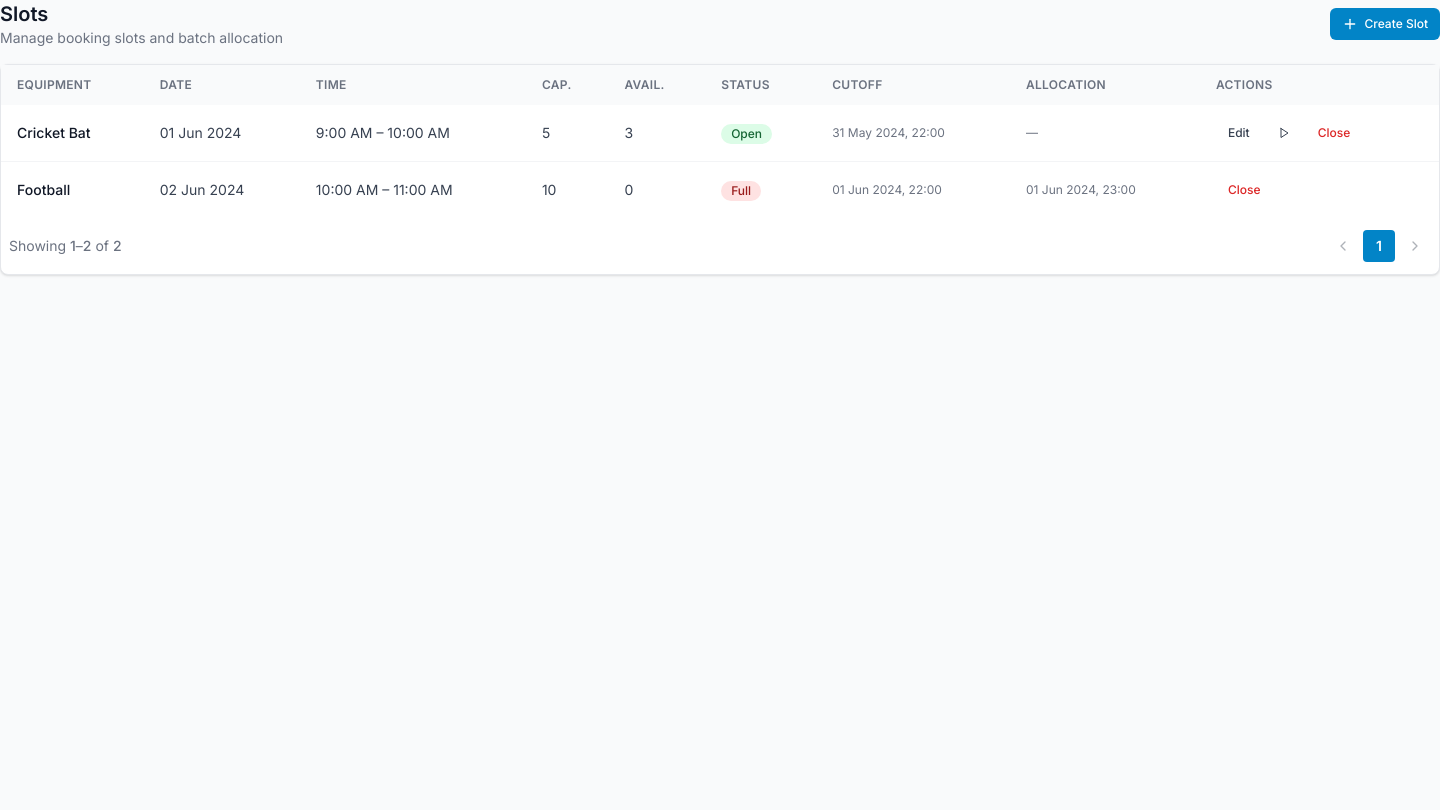
Test case: SlotsPage › shows allocation result dialog after run allocation
The image size is (1440, 810).
expect the text "Cricket Bat" is shown: met, box [1, 105, 144, 162]
Click the button named "Run batch allocation".
click(1284, 133)  # box [1266, 117, 1302, 149]
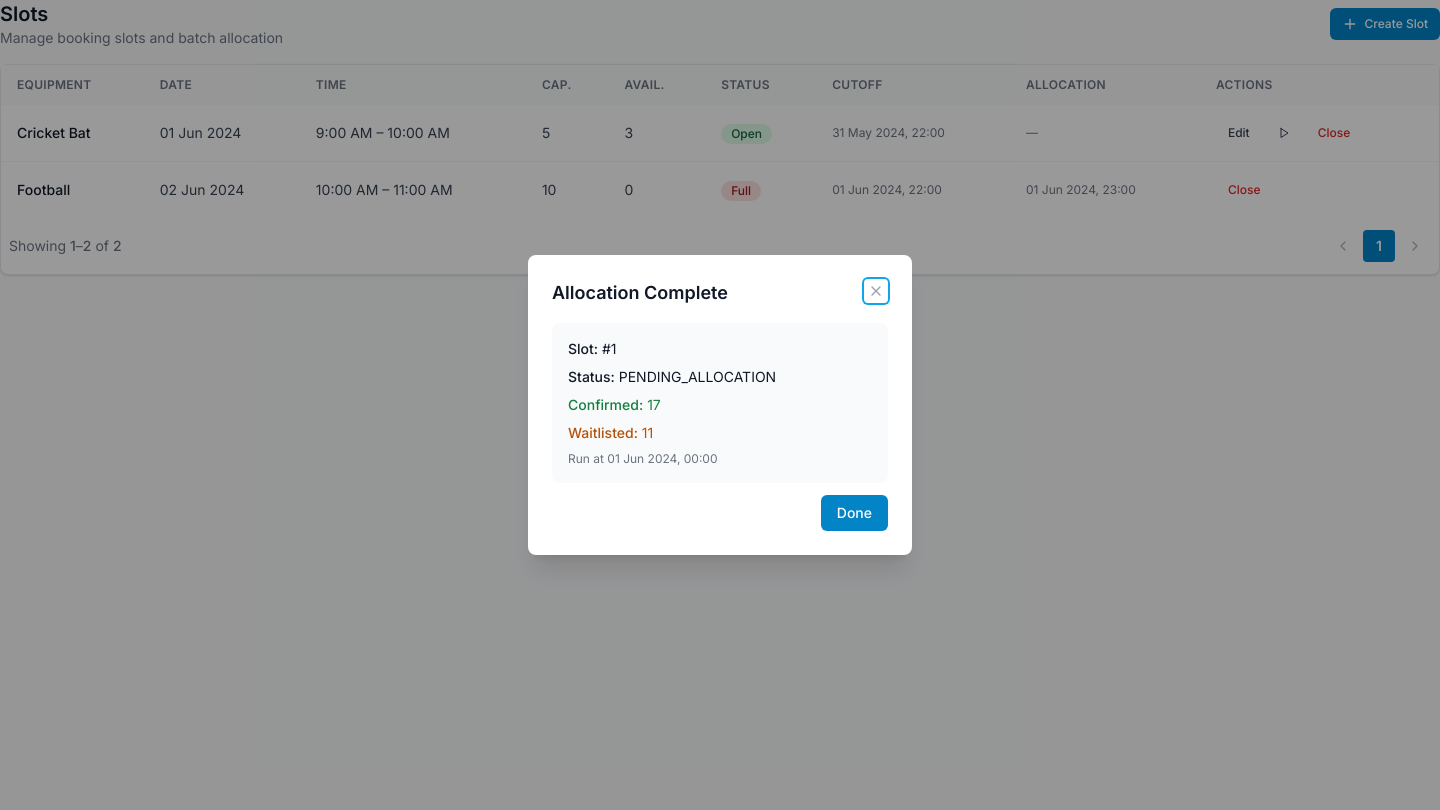
expect the heading "Allocation Complete" is shown: met, box [552, 279, 728, 307]
expect the text "17" is shown: met, box [647, 396, 661, 413]
expect the text "11" is shown: met, box [642, 424, 653, 441]
